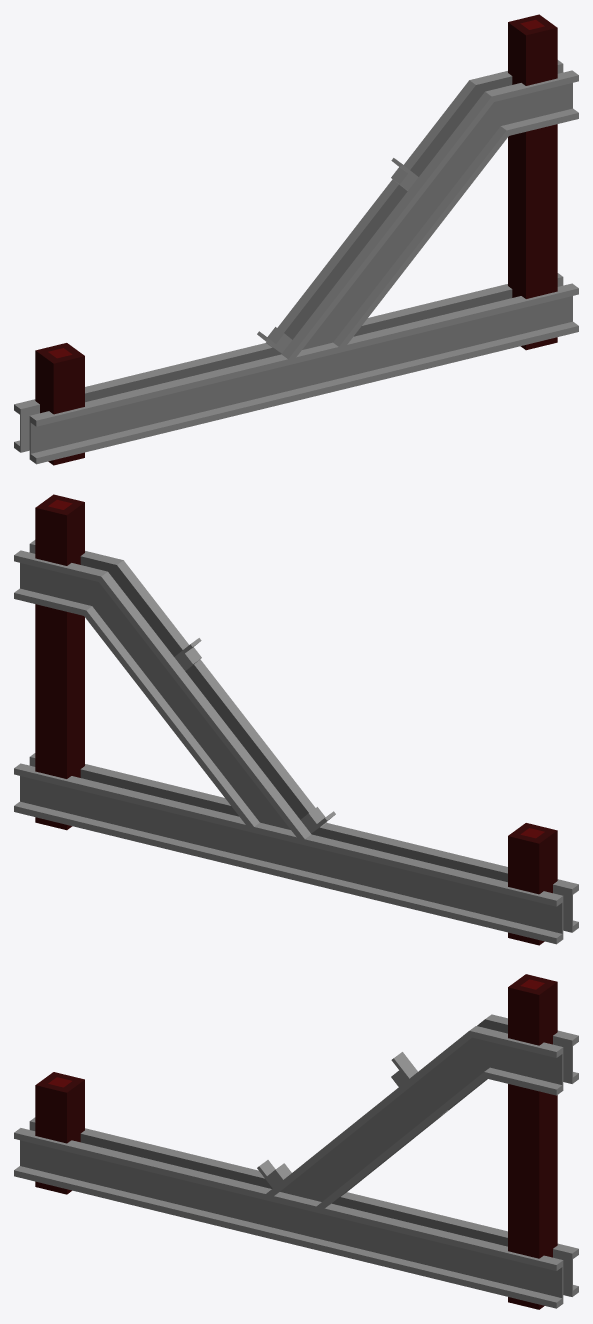
File: rmc_support_bank.obj
The picture shows the model from 3 angles, top to bottom: view 1: azimuth 30°, elevation 25°; view 2: azimuth 150°, elevation 25°; view 3: azimuth 330°, elevation 25°; orthographic projection.
Size of the model in its own units: 3.55 by 1.97 by 0.254.
